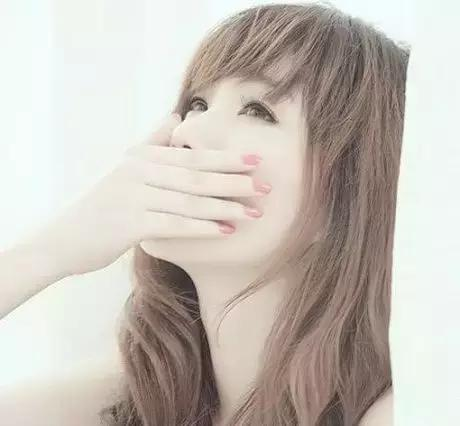face: (137, 49, 295, 263)
